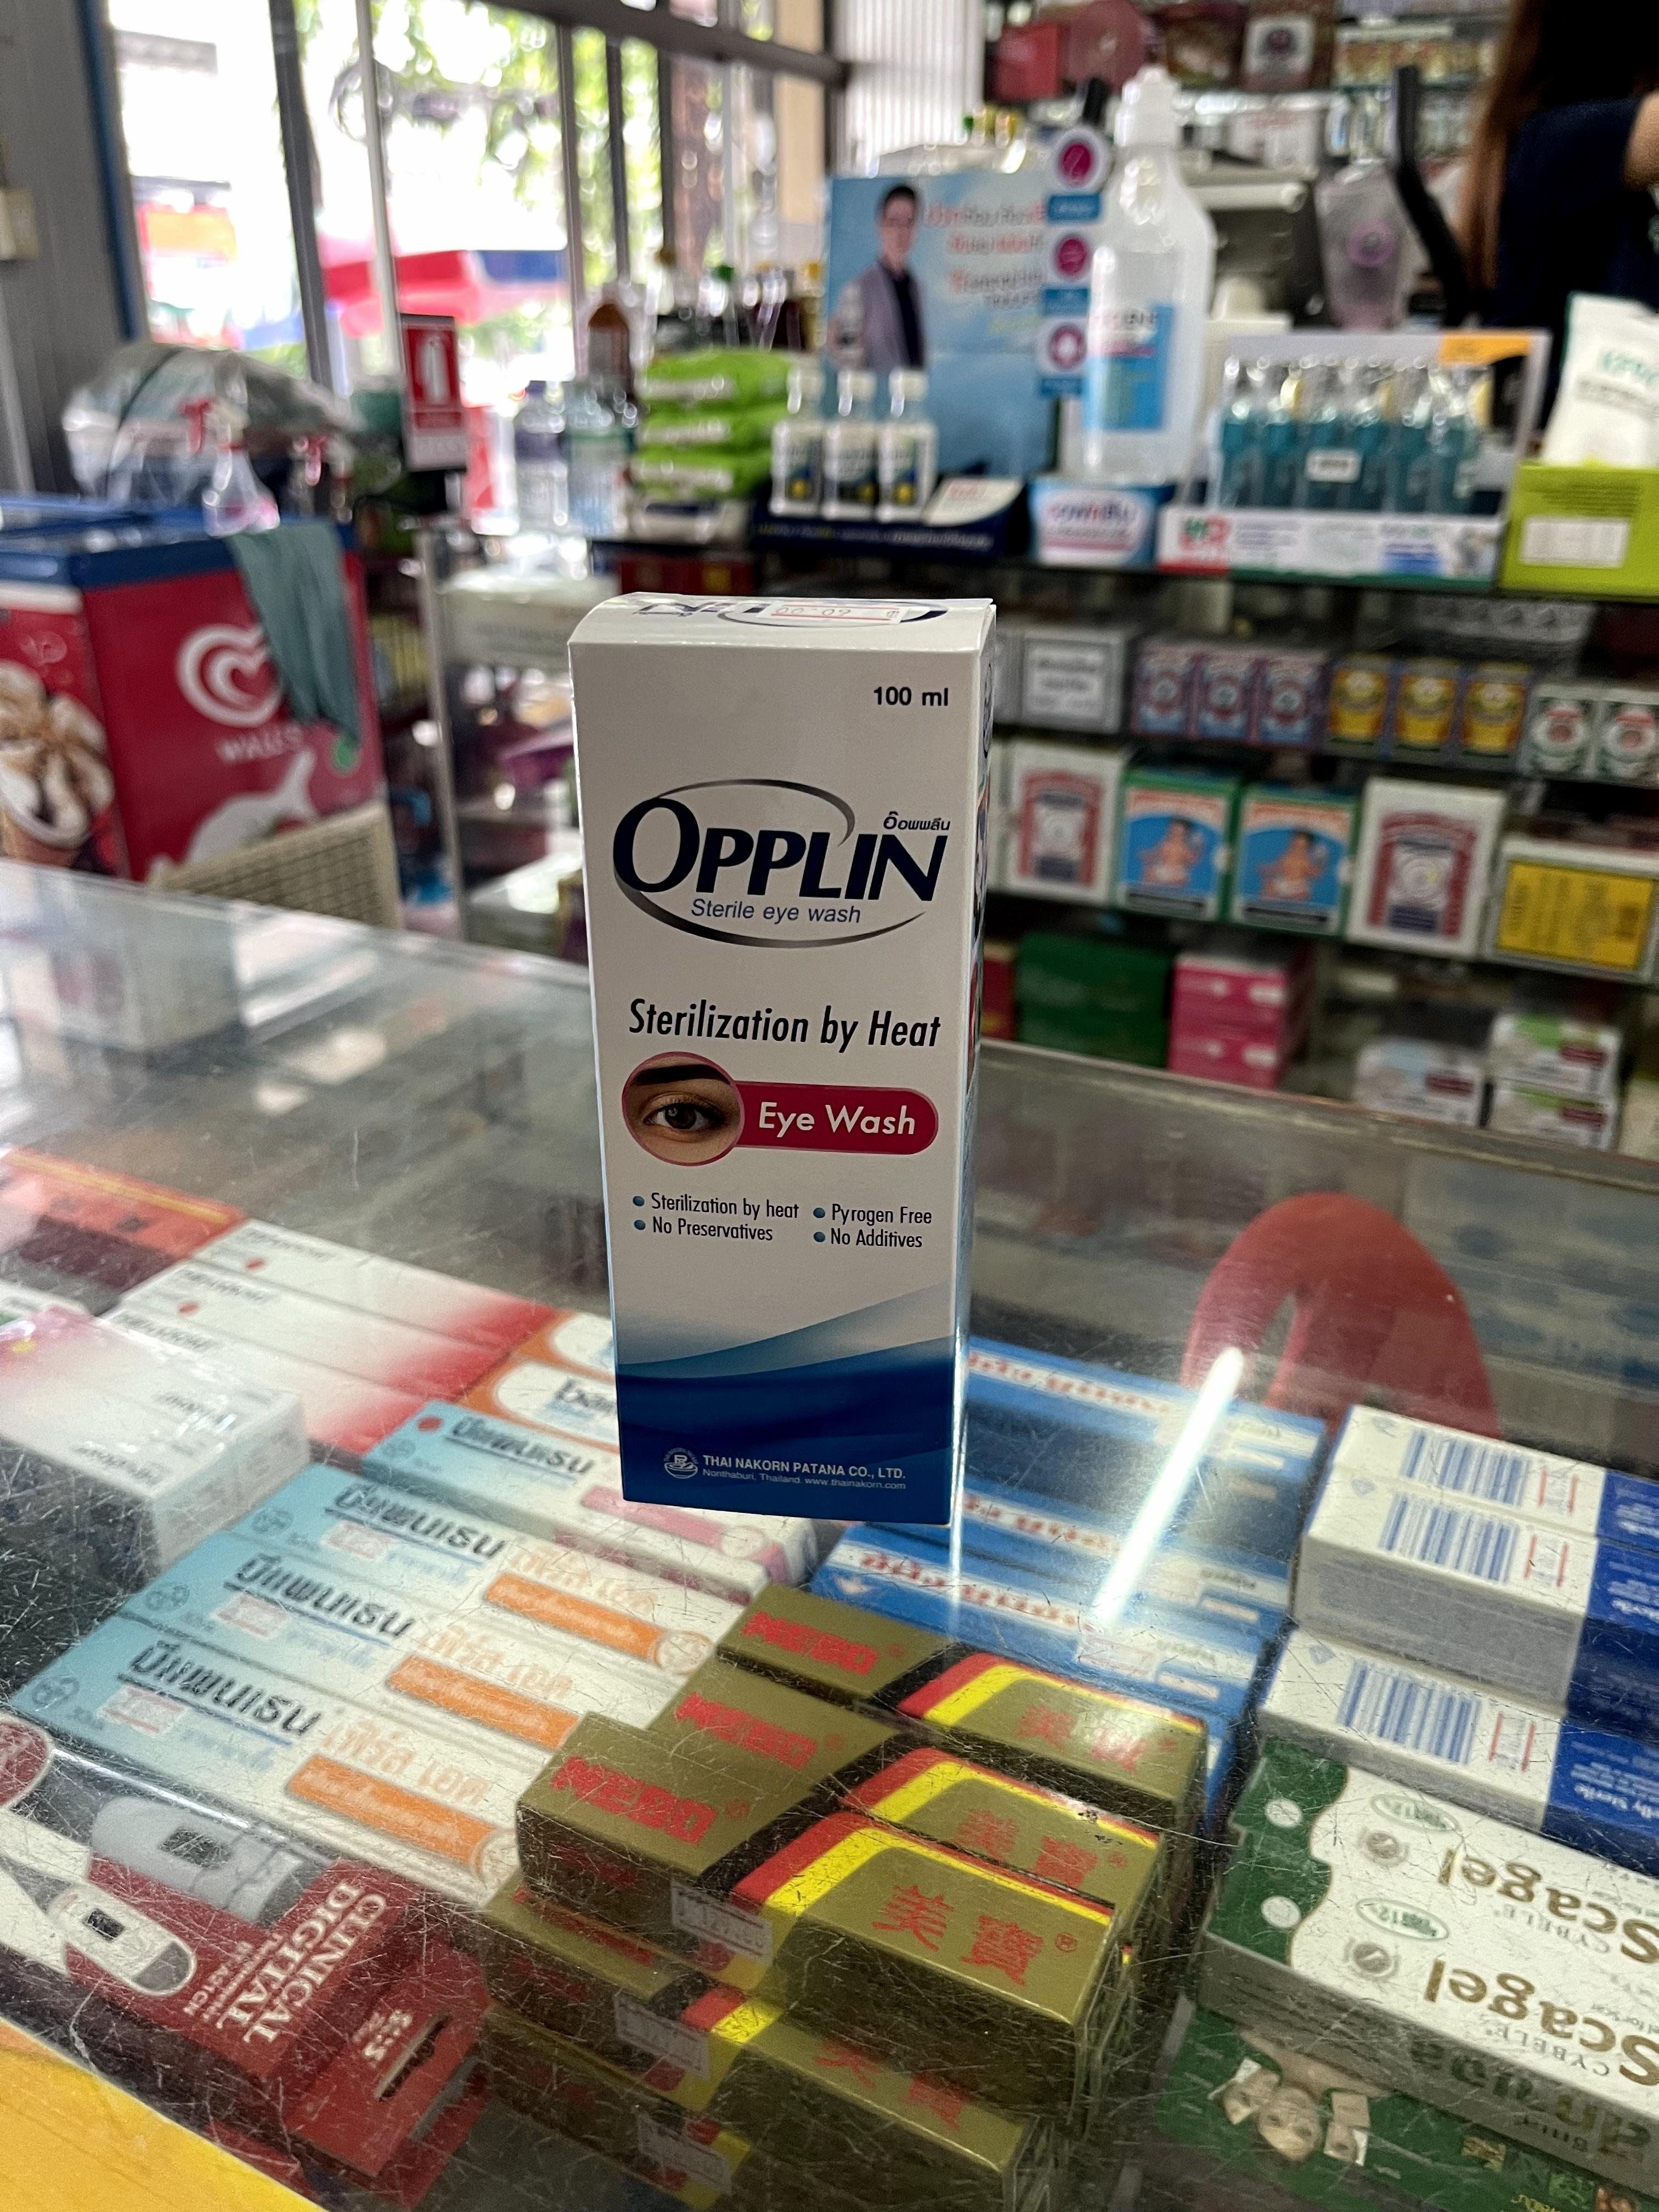Opplin: (577, 592, 999, 1527)
